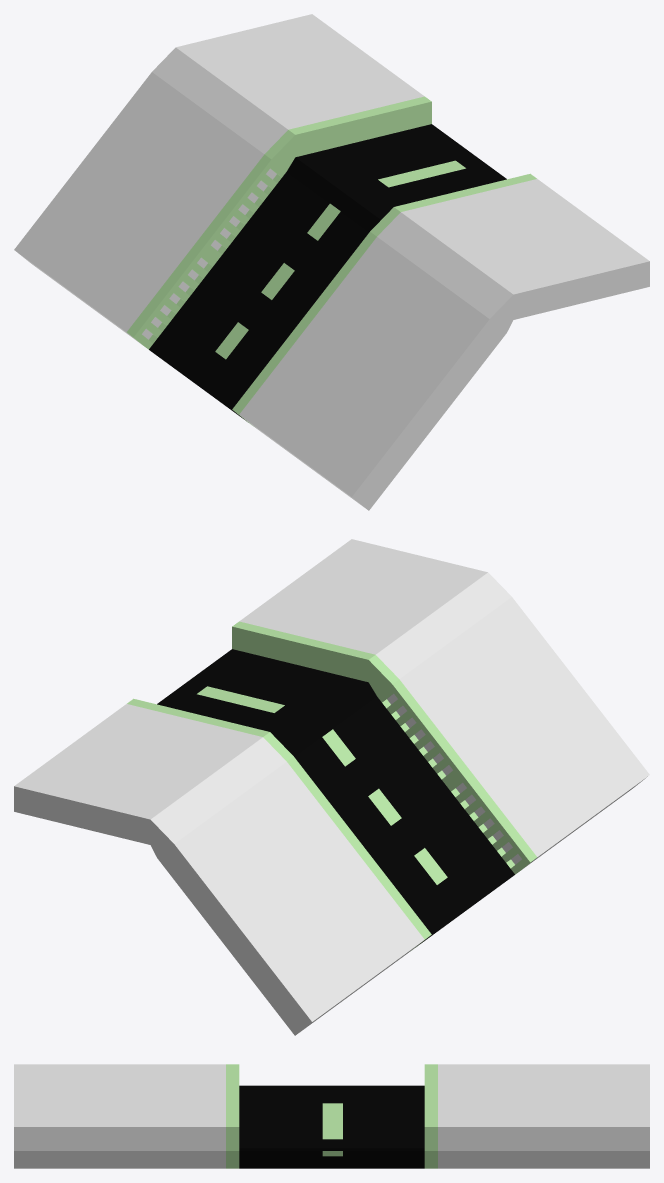
File: Sci-fi_raceTrackDiagonal_Beta2.fbx
3 renders of one model, top to bottom at view 1: azimuth 30°, elevation 25°; view 2: azimuth 150°, elevation 25°; view 3: azimuth 270°, elevation 25°, orthographic. The views are drawn at different scales.
Visible parts, largest first — view 1: LeftRoad, RightRoad, Plane, RightWall, LeftWall; view 2: RightRoad, LeftRoad, Plane, LeftWall, RightWall; view 3: RightRoad, LeftRoad, Plane, LeftWall, RightWall.
Part boxes in pixels (x1,y1,x2,y2): LeftRoad: (239,179,649,510); RightRoad: (14,14,424,343); Plane: (149,124,506,421); RightWall: (126,96,431,349); LeftWall: (232,173,536,426); RightRoad: (14,704,424,1035); LeftRoad: (239,539,649,868); Plane: (157,649,514,946); LeftWall: (232,621,537,874); RightWall: (127,698,431,951); RightRoad: (438,1064,649,1168); LeftRoad: (14,1064,225,1168); Plane: (239,1085,424,1168); LeftWall: (226,1064,239,1168); RightWall: (424,1064,437,1168).
Size of the model in its own units: 1529 by 888 by 3000.
